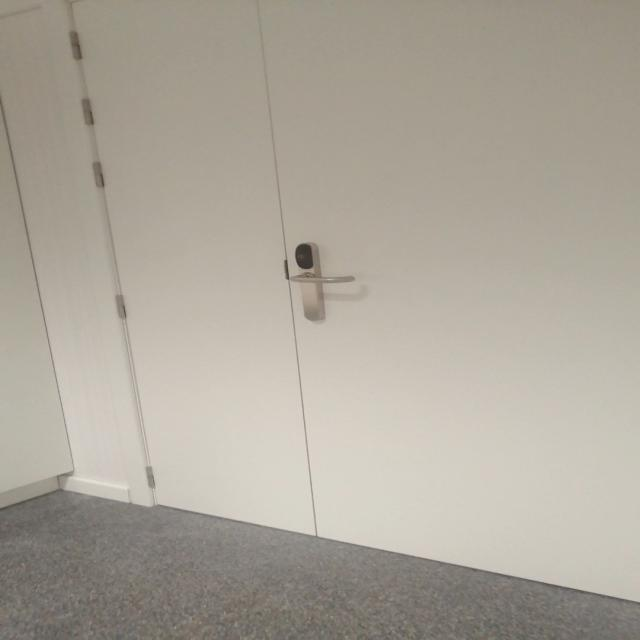door_handle: (276, 271, 360, 287)
